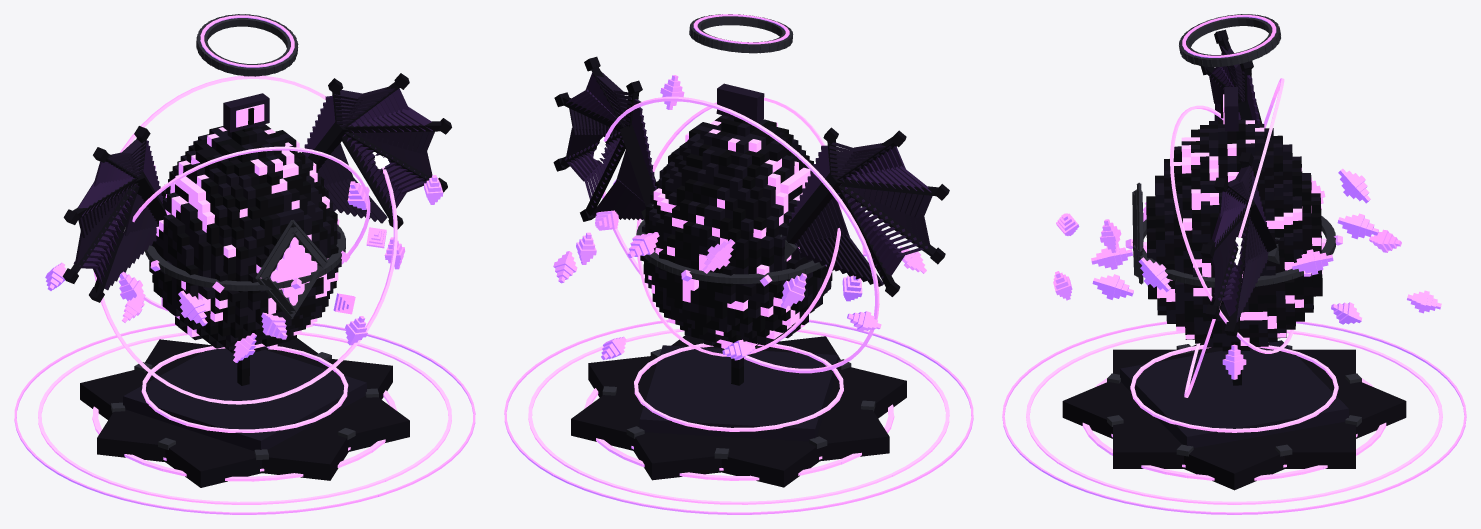
The model's file is egg_secreto_vacio.glb.
3 views of the same model, side by side, from view 1: azimuth 30°, elevation 25°; view 2: azimuth 150°, elevation 25°; view 3: azimuth 270°, elevation 25° (orthographic).
Parts seen in each view (by area): view 1: root_geo, shell_geo, wing_L_geo, wing_R_geo, floor_rings_geo, emblem_geo, orbit1_geo, halo_geo, shardring_geo, egg_geo, orbit2_geo, crown_geo; view 2: root_geo, shell_geo, wing_R_geo, wing_L_geo, floor_rings_geo, orbit1_geo, shardring_geo, halo_geo, orbit2_geo, egg_geo, crown_geo; view 3: root_geo, shell_geo, wing_L_geo, floor_rings_geo, shardring_geo, halo_geo, wing_R_geo, egg_geo, orbit1_geo, orbit2_geo, emblem_geo, crown_geo (+1 smaller).
Boxes of the visible parts, <box> form: root_geo: <box>80,338,409,487</box>; shell_geo: <box>149,124,341,385</box>; wing_L_geo: <box>302,73,451,229</box>; wing_R_geo: <box>62,126,166,302</box>; floor_rings_geo: <box>14,323,475,514</box>; emblem_geo: <box>255,219,328,319</box>; orbit1_geo: <box>94,75,397,404</box>; halo_geo: <box>196,14,298,76</box>; shardring_geo: <box>118,165,386,339</box>; egg_geo: <box>144,219,349,292</box>; orbit2_geo: <box>124,146,370,311</box>; crown_geo: <box>223,93,269,132</box>; root_geo: <box>571,335,906,487</box>; shell_geo: <box>640,115,834,385</box>; wing_R_geo: <box>779,127,949,296</box>; wing_L_geo: <box>553,56,656,221</box>; floor_rings_geo: <box>504,319,973,514</box>; orbit1_geo: <box>593,96,879,373</box>; shardring_geo: <box>595,179,866,308</box>; halo_geo: <box>689,14,793,53</box>; orbit2_geo: <box>636,97,841,356</box>; egg_geo: <box>636,219,826,286</box>; crown_geo: <box>716,83,764,122</box>; root_geo: <box>1062,340,1406,490</box>; shell_geo: <box>1143,119,1326,385</box>; wing_L_geo: <box>1200,152,1279,336</box>; floor_rings_geo: <box>1002,321,1466,514</box>; shardring_geo: <box>1091,168,1378,299</box>; halo_geo: <box>1179,14,1280,66</box>; wing_R_geo: <box>1200,29,1262,123</box>; egg_geo: <box>1125,216,1342,287</box>; orbit1_geo: <box>1184,78,1284,397</box>; orbit2_geo: <box>1170,105,1296,353</box>; emblem_geo: <box>1132,182,1143,284</box>; crown_geo: <box>1220,87,1238,131</box>.
Bounding box in the file's own units: 10.12 × 9.34 × 10.12.
